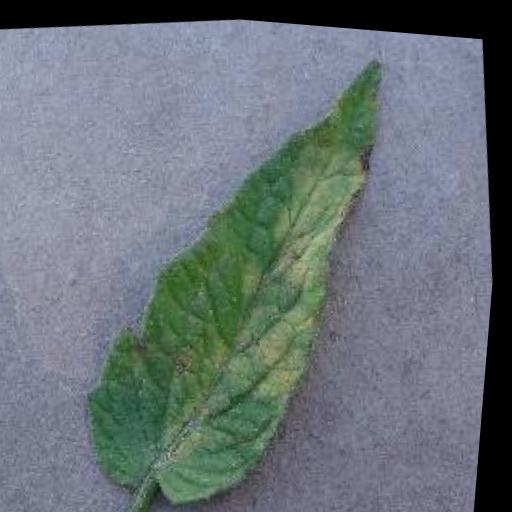Leaf Mold: (47, 31, 434, 512)
